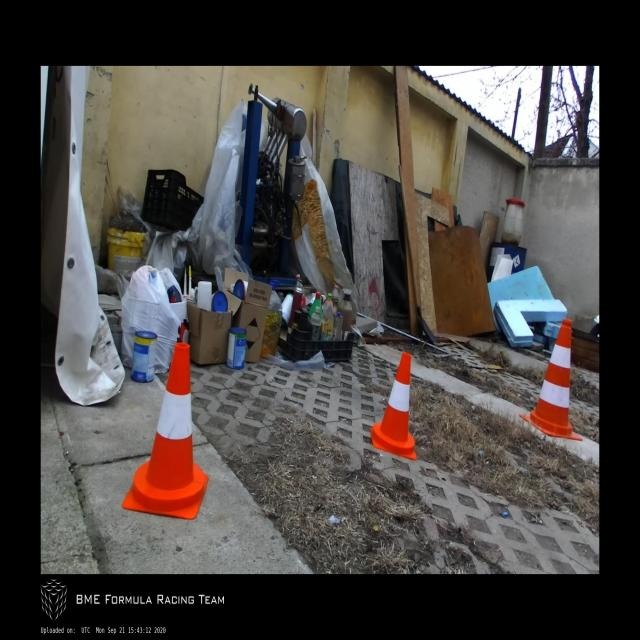large_orange_cone: (519, 318, 582, 441)
orange_cone: (122, 342, 209, 520), (370, 352, 417, 460)
